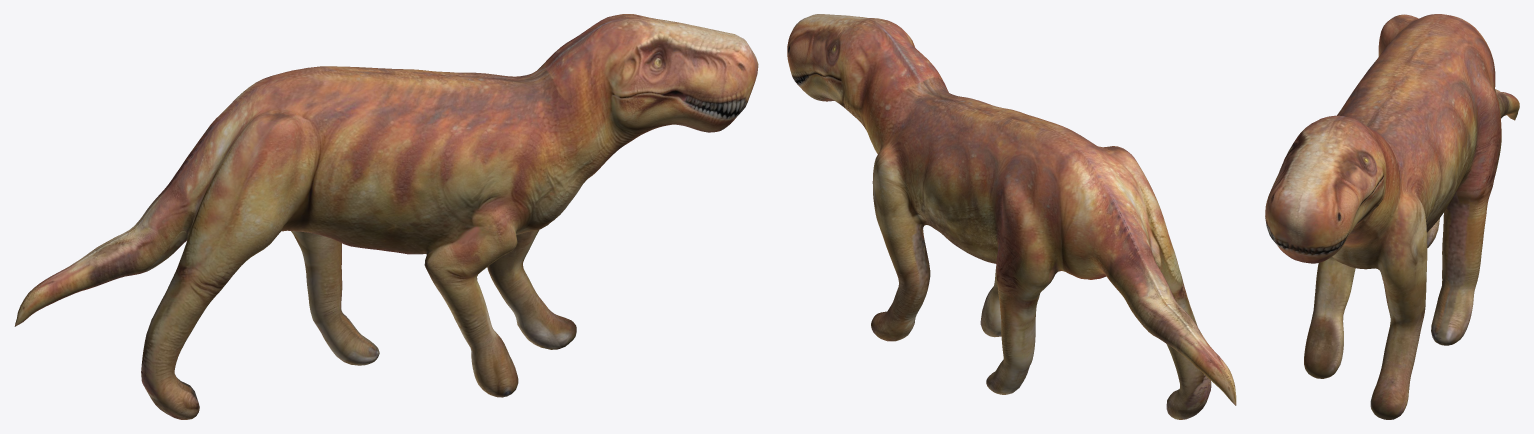
The picture shows the model from 3 angles, left to right: view 1: azimuth 30°, elevation 25°; view 2: azimuth 150°, elevation 25°; view 3: azimuth 270°, elevation 25°; orthographic projection. The views are drawn at different scales.
Parts seen in each view (by area): view 1: Mesh0; view 2: Mesh0; view 3: Mesh0.
Part boxes in pixels (bbox=[...]): Mesh0: bbox=[14, 14, 758, 419]; Mesh0: bbox=[787, 14, 1236, 419]; Mesh0: bbox=[1265, 14, 1519, 419].
Bounding box in the file's own units: 0.0776 × 0.04 × 0.029.
Materials: 1 (1 with a texture image).
